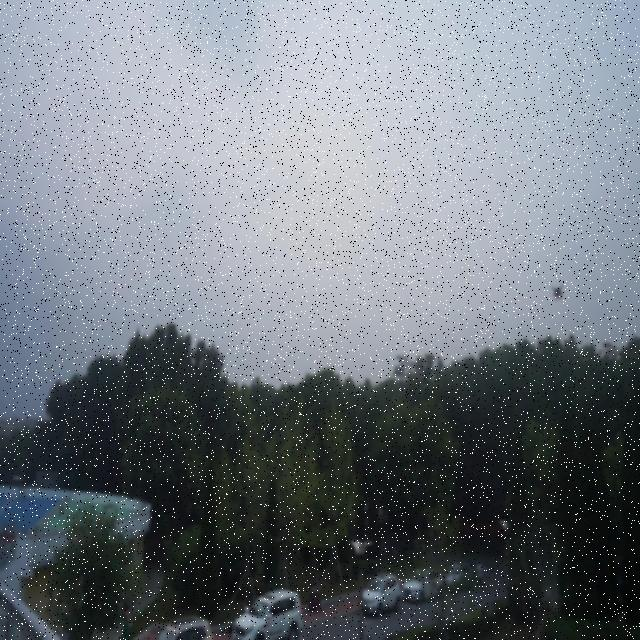UAV: (551, 284, 564, 302)
